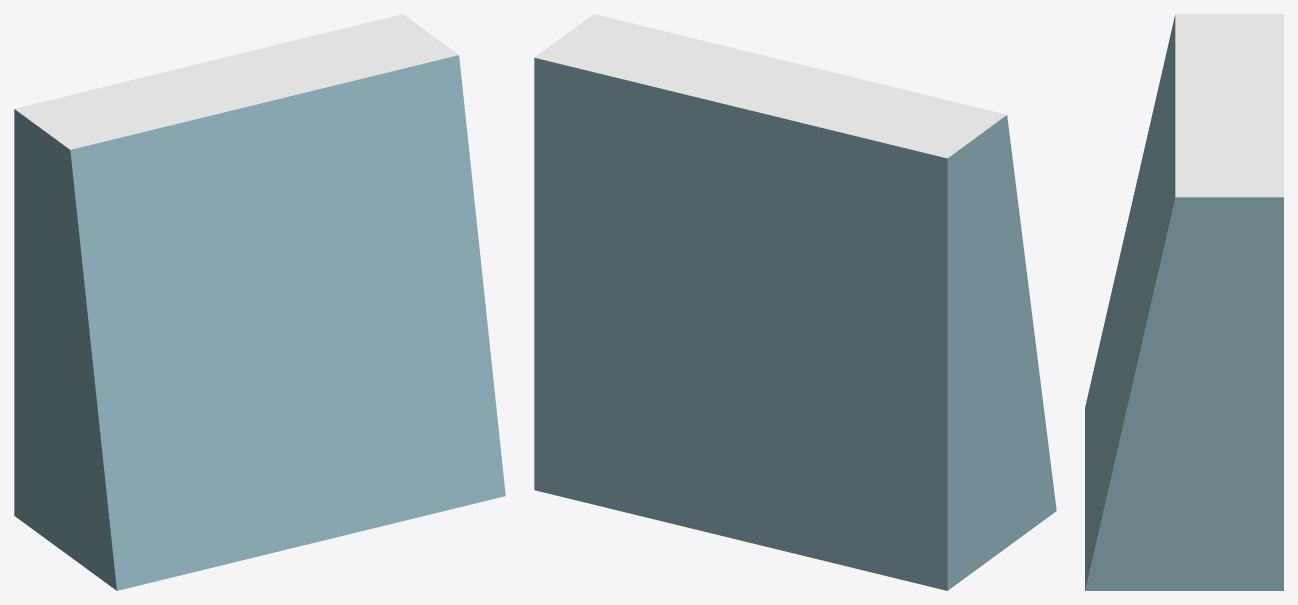
The model's file is Terrain_Tile_Ice_Snow_Cliff_Face_Angled_02.fbx.
3 renders of one model, left to right at view 1: azimuth 30°, elevation 25°; view 2: azimuth 150°, elevation 25°; view 3: azimuth 270°, elevation 25°, orthographic. The views are drawn at different scales.
Visible parts, largest first — view 1: Model; view 2: Model; view 3: Model.
Boxes of the visible parts, <box> form: Model: <box>14,14,505,590</box>; Model: <box>534,14,1056,590</box>; Model: <box>1085,14,1283,590</box>.
Bounding box in the file's own units: 2000 × 2000 × 916.
